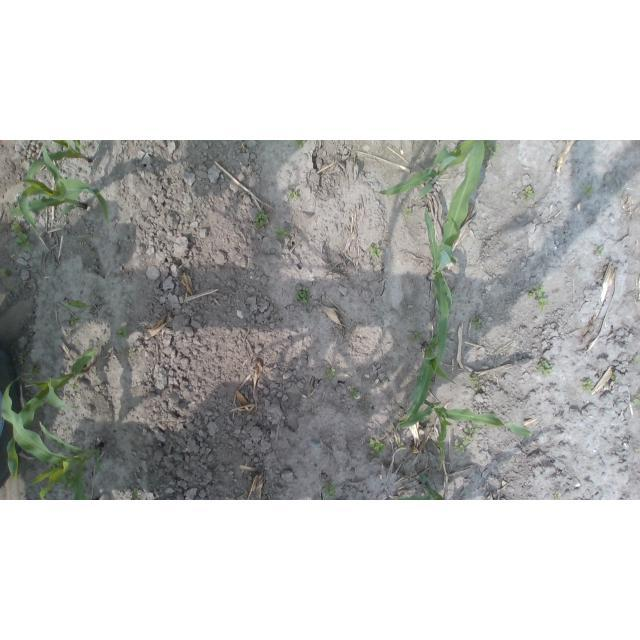Maize: (1, 372, 140, 500), (423, 140, 484, 372), (7, 347, 97, 479), (399, 397, 532, 469), (9, 144, 112, 232), (376, 140, 476, 196), (397, 332, 455, 424), (26, 140, 92, 186), (392, 474, 448, 500), (66, 299, 98, 309)
Weeds: (12, 220, 35, 252), (462, 424, 478, 446), (484, 140, 500, 161), (61, 470, 76, 492), (370, 438, 387, 457), (537, 359, 553, 377), (253, 208, 267, 228), (296, 286, 309, 306), (324, 480, 336, 500), (528, 285, 544, 300), (367, 243, 382, 259), (521, 184, 535, 200), (28, 362, 41, 379), (275, 228, 290, 242), (469, 374, 481, 391), (116, 325, 129, 340), (536, 298, 549, 312), (287, 188, 300, 201), (471, 316, 483, 330), (582, 379, 594, 393), (452, 440, 464, 453), (584, 184, 595, 196), (349, 388, 359, 401), (328, 366, 337, 380), (292, 140, 307, 148), (396, 439, 405, 452), (595, 245, 605, 256), (0, 267, 10, 277), (411, 331, 421, 341), (404, 206, 413, 216), (69, 316, 79, 325), (71, 381, 79, 392), (128, 348, 136, 357), (632, 355, 640, 364), (632, 396, 640, 404), (18, 356, 25, 365), (554, 492, 561, 500), (80, 143, 89, 149), (611, 372, 617, 381), (48, 464, 56, 469), (31, 159, 36, 164), (272, 312, 277, 316), (635, 448, 638, 452)
